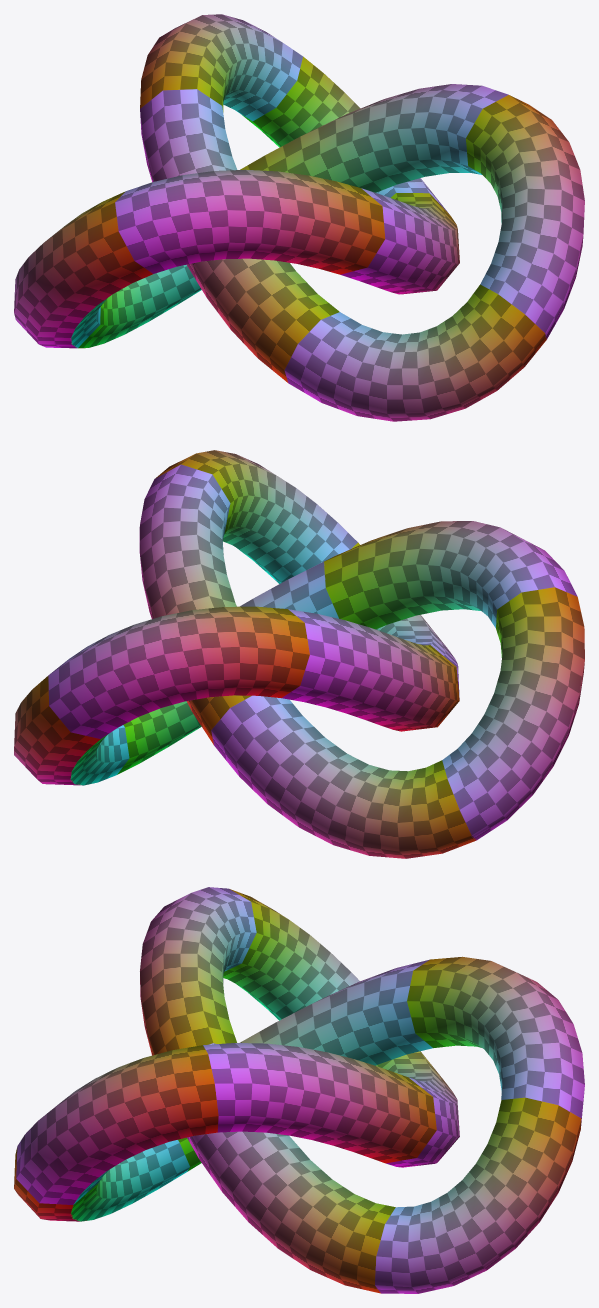
3 renders of one model, top to bottom at view 1: azimuth 30°, elevation 25°; view 2: azimuth 150°, elevation 25°; view 3: azimuth 270°, elevation 25°, orthographic.
Visible parts, largest first — view 1: TorusKnot; view 2: TorusKnot; view 3: TorusKnot.
Boxes of the visible parts, x1=… form: TorusKnot: x1=14, y1=14, x2=584, y2=421; TorusKnot: x1=14, y1=450, x2=584, y2=858; TorusKnot: x1=14, y1=887, x2=584, y2=1293.
Size of the model in its own units: 604 by 296 by 641.
